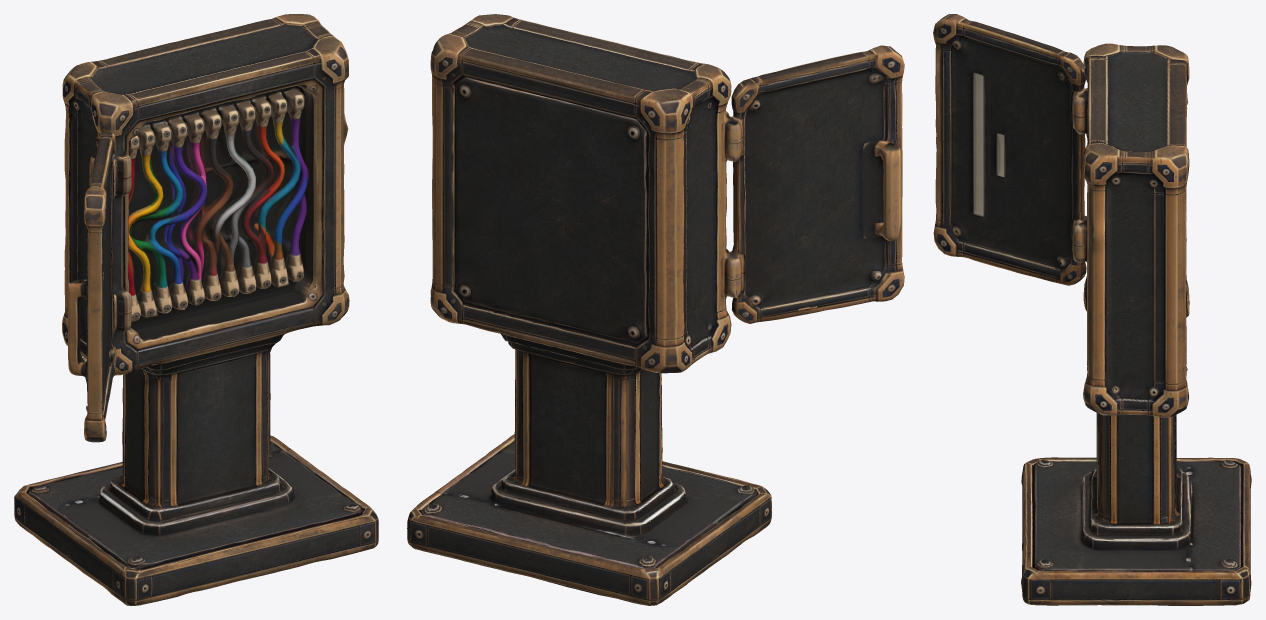
The model's file is tripo_convert_b89fe26e-3b2a-4e43-b777-44b811e03a51.fbx.
3 views of the same model, side by side, from view 1: azimuth 30°, elevation 25°; view 2: azimuth 150°, elevation 25°; view 3: azimuth 270°, elevation 25° (orthographic). The views are drawn at different scales.
Parts seen in each view (by area): view 1: tripo_node_b89fe26e; view 2: tripo_node_b89fe26e; view 3: tripo_node_b89fe26e.
Boxes of the visible parts, box(x1,y1,x2,y2) form: tripo_node_b89fe26e: box(14, 14, 378, 605); tripo_node_b89fe26e: box(407, 14, 904, 605); tripo_node_b89fe26e: box(933, 14, 1251, 605).
Bounding box in the file's own units: 0.7654 × 0.9788 × 0.6231.
1 material, 1 textured.
